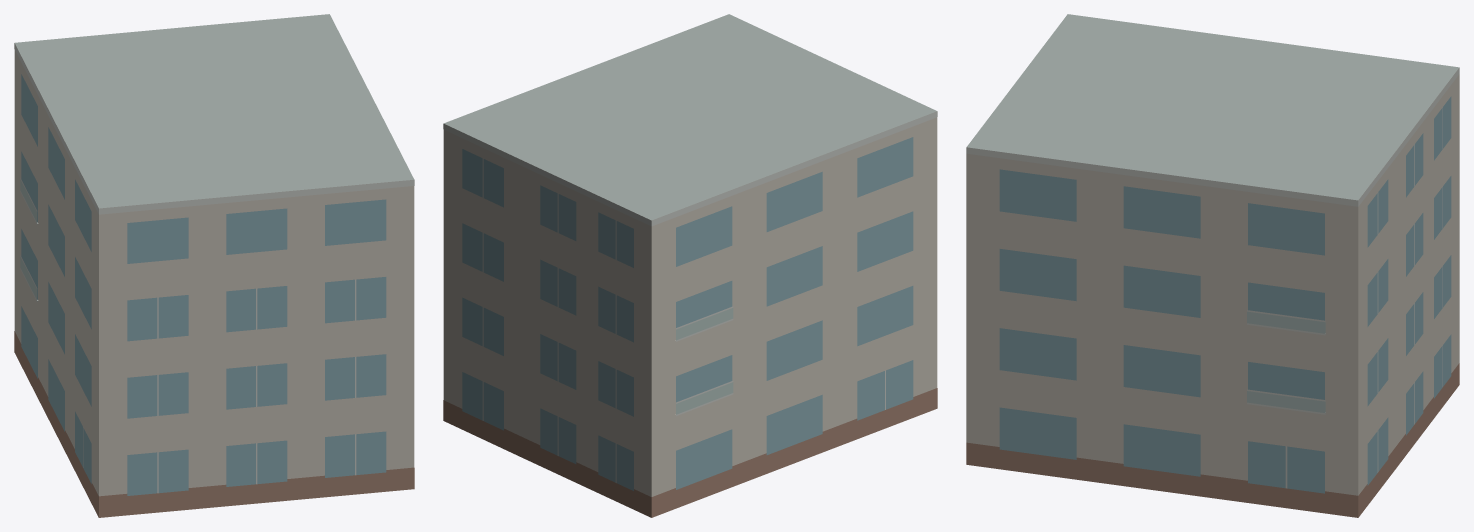
File: residential-800f9fab-19de-402f-b570-b0ec20715753.glb
The picture shows the model from 3 angles, left to right: view 1: azimuth 30°, elevation 25°; view 2: azimuth 150°, elevation 25°; view 3: azimuth 270°, elevation 25°; orthographic projection. The views are drawn at different scales.
Visible parts, largest first — view 1: residential-800f9fab-19de-402f-b570-b0ec20715753.tmp; view 2: residential-800f9fab-19de-402f-b570-b0ec20715753.tmp; view 3: residential-800f9fab-19de-402f-b570-b0ec20715753.tmp.
Boxes of the visible parts, x1,y1,x2,y2 form: residential-800f9fab-19de-402f-b570-b0ec20715753.tmp: (14,14,414,517); residential-800f9fab-19de-402f-b570-b0ec20715753.tmp: (443,14,937,517); residential-800f9fab-19de-402f-b570-b0ec20715753.tmp: (966,14,1459,517).
Size of the model in its own units: 15.38 by 12.2 by 17.19.
